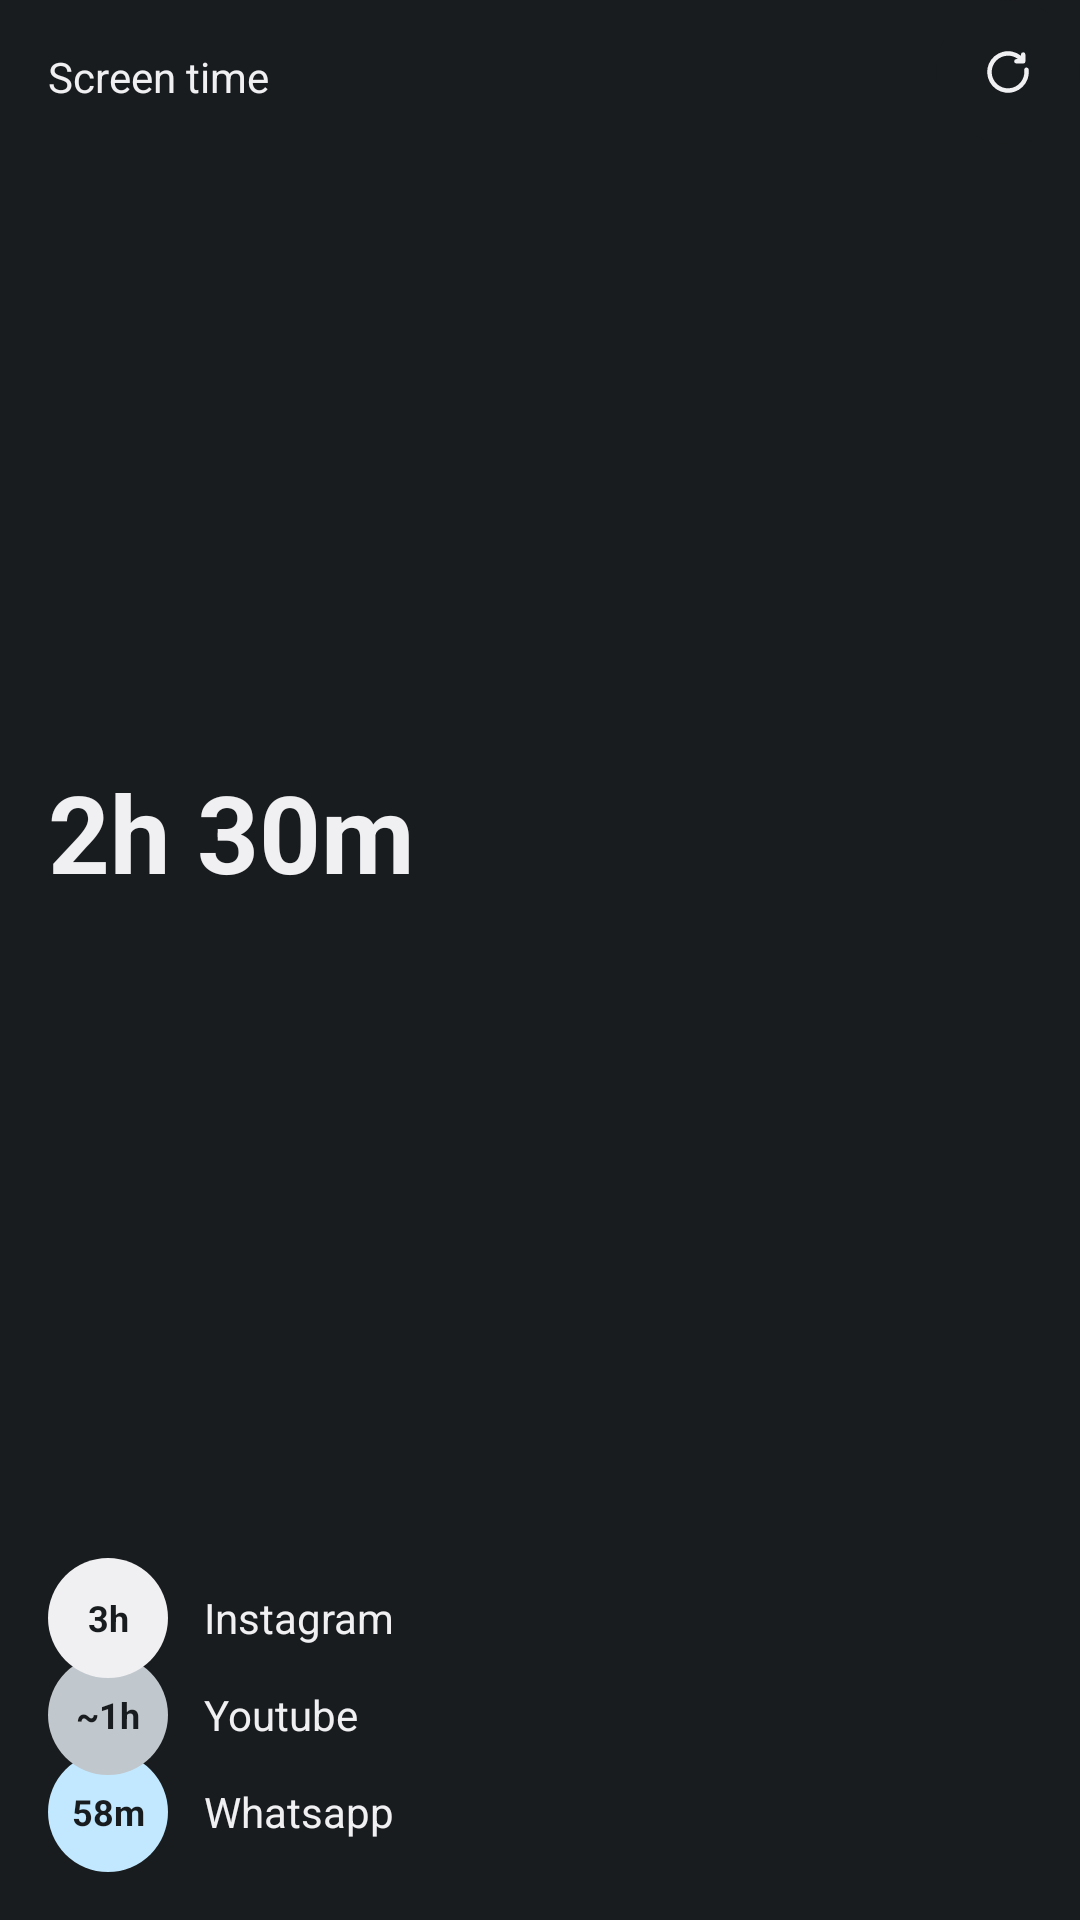

Point at icon controls on the screen. Image size 1080px×1920px, points as (x=x, y=y).
refresh: (x=1008, y=72)
